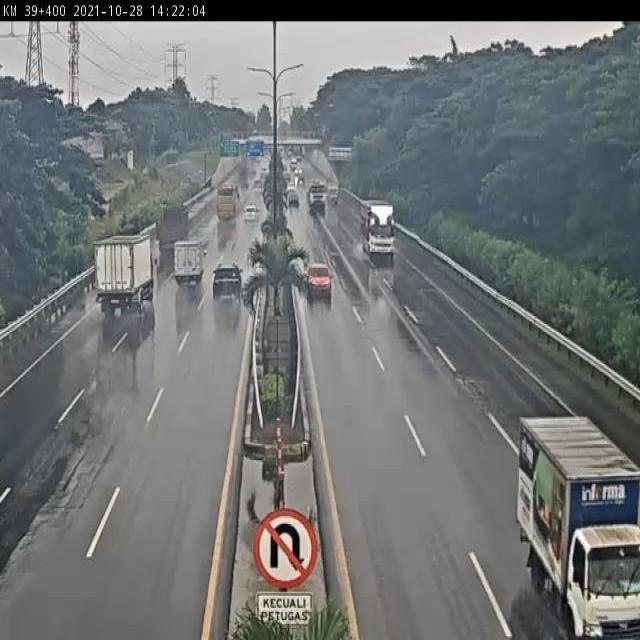big bus: (212, 183, 242, 225)
truck-l-: (93, 232, 155, 315), (360, 203, 398, 261), (151, 205, 191, 258)
truck-s-: (517, 416, 640, 640), (172, 239, 207, 292)
truck-xl-: (306, 178, 329, 214)
